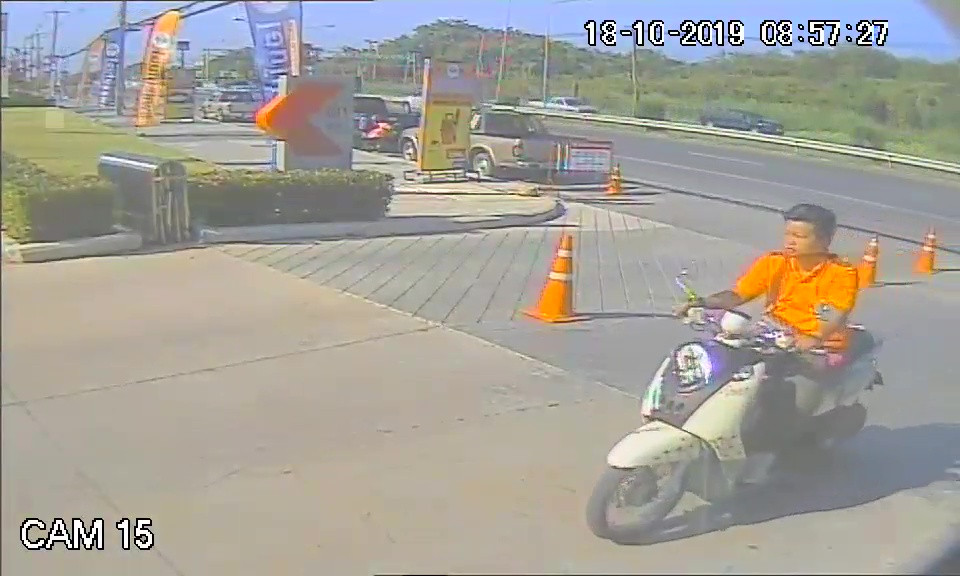motorcycle: (581, 301, 891, 544)
